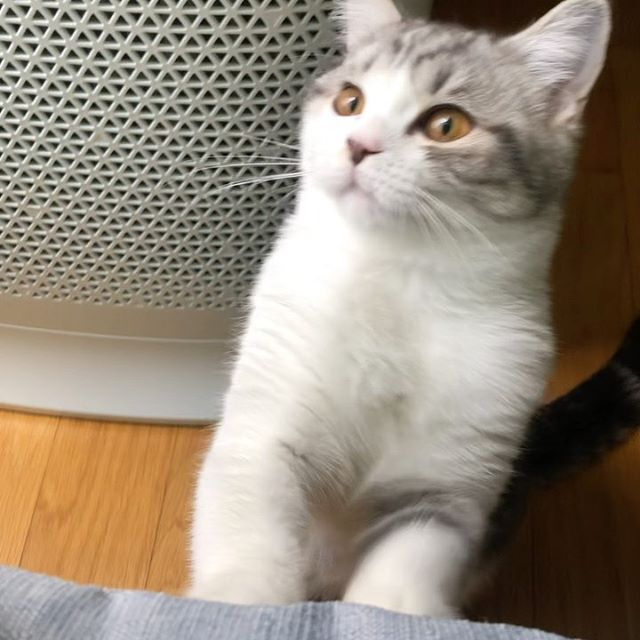cat: (297, 1, 606, 263)
